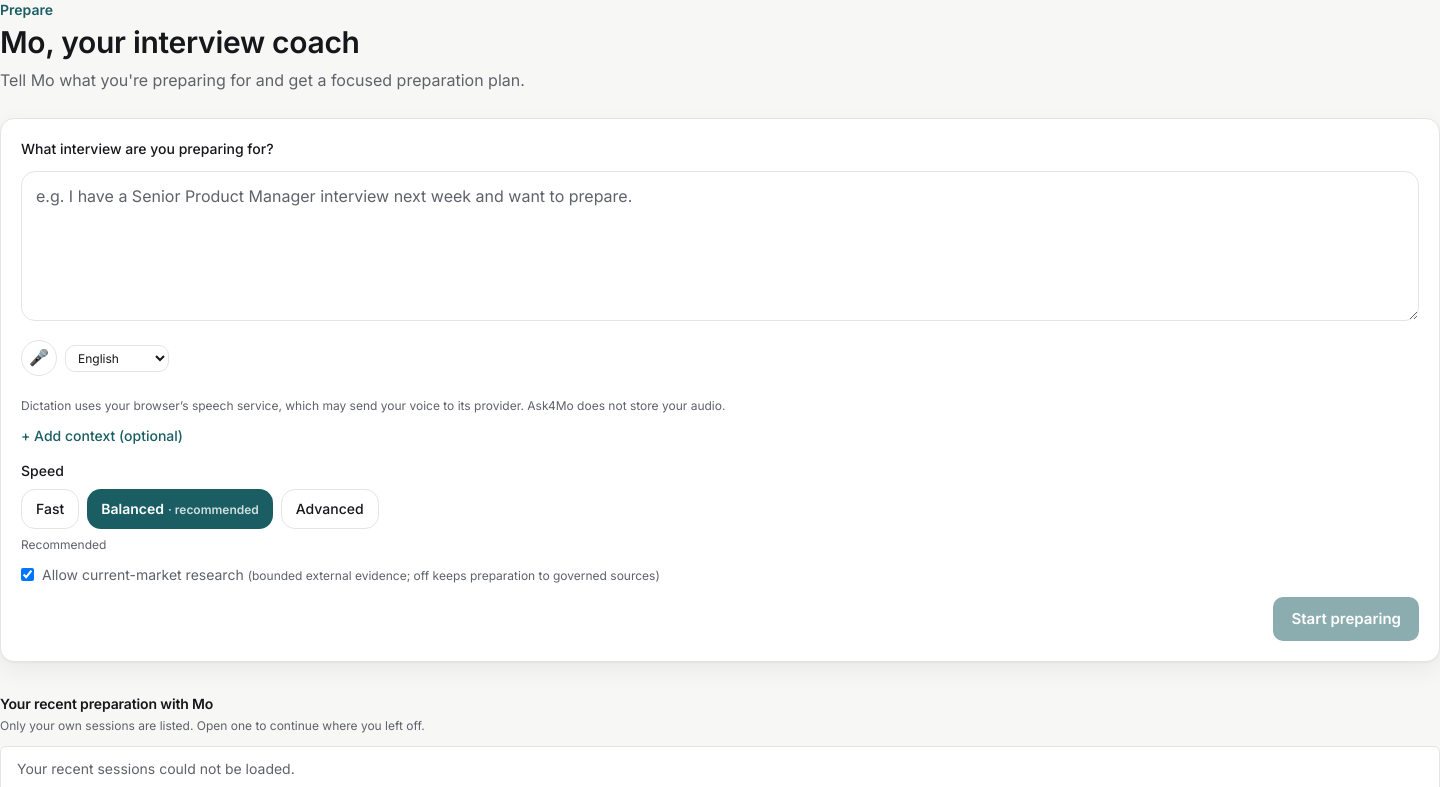
Practice handoff provenance card › shows role, focus and question provenance from the summary
This screenshot has width=1440, height=787.
Step 1. Type "Prep" into the text box labelled "What interview are you preparing for?" → (720, 246), box [21,171,1419,321]
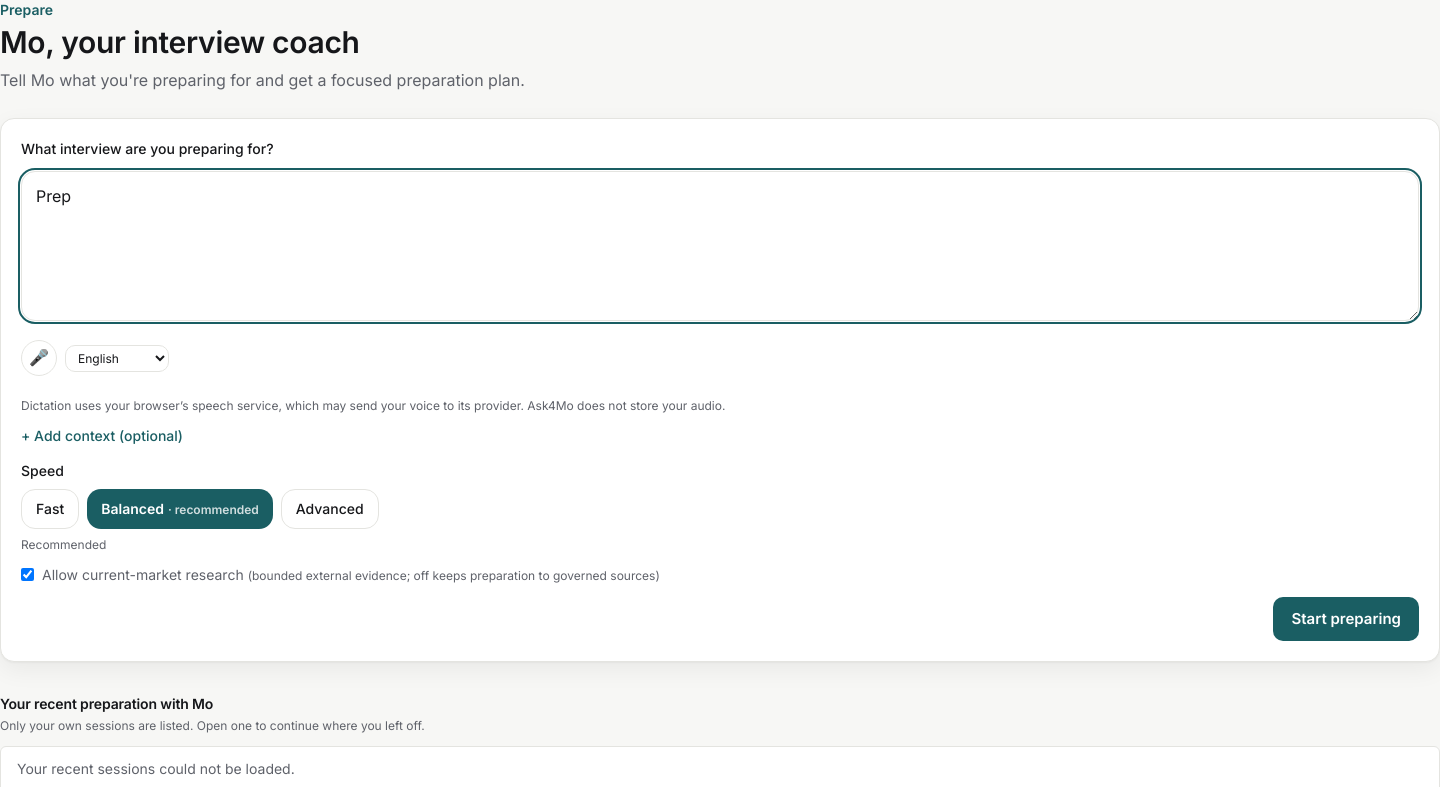
Step 2. Click the button "Start preparing" → (1346, 619), box [1273,597,1419,641]
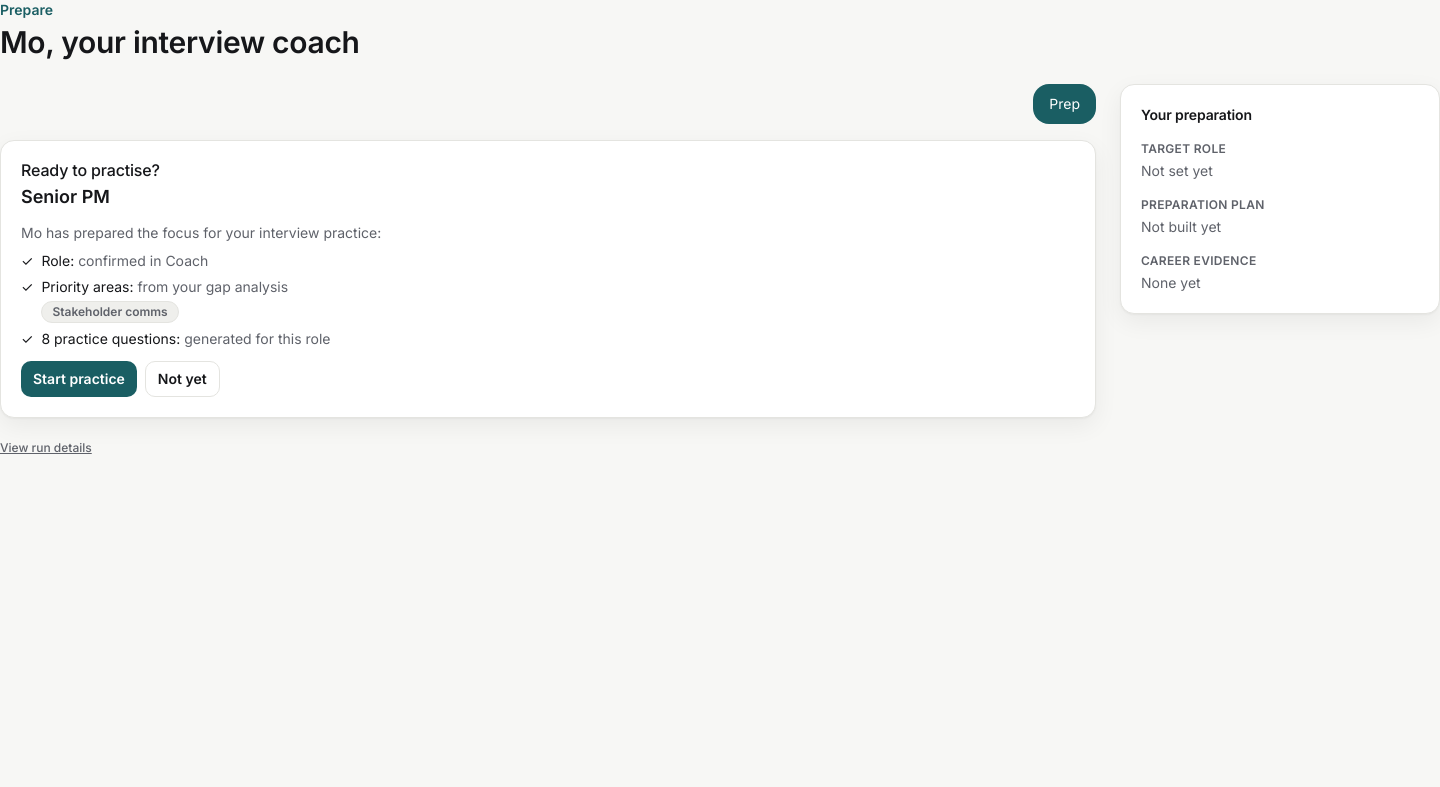
Expected: the heading "Ready to practise?" is shown, [21,160,160,180]
Expected: the text "Senior PM" is shown, [21,186,110,207]
Expected: the text "confirmed in Coach" is shown, [78,252,208,269]
